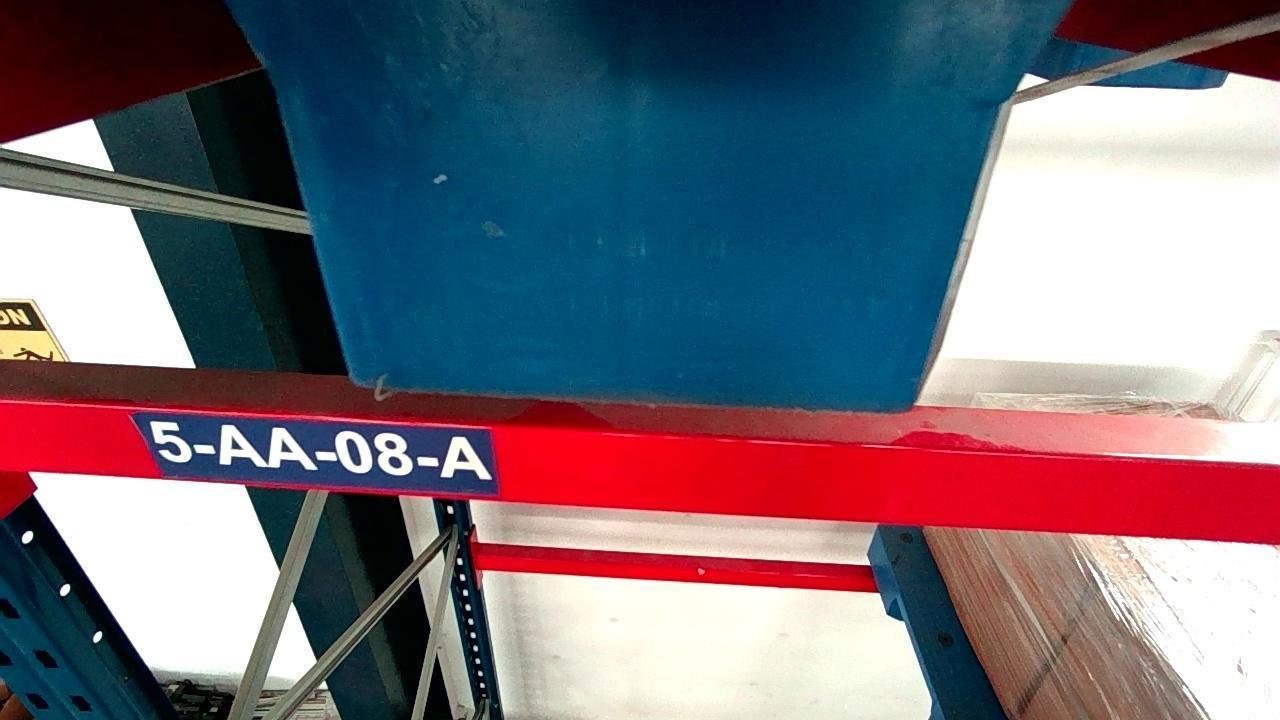h_rack: (0, 396, 1280, 544)
